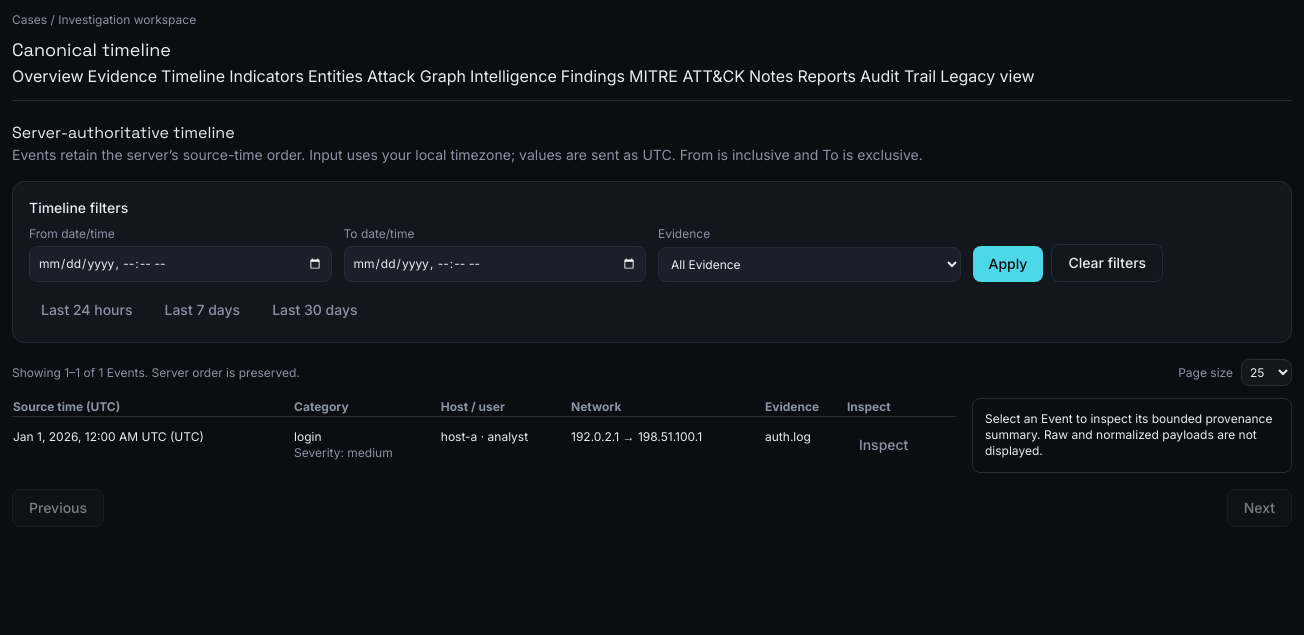
Test case: factual workspace › uses the bounded server Timeline projection and exposes safe provenance
Check: the text "login" is shown, box [294,429,322,444]
What coordinates should you click on to do the following:
click the button with aria-label "Inspect event event-1"
I would click on:
 (884, 445)
Its box is [847,429,920,461].
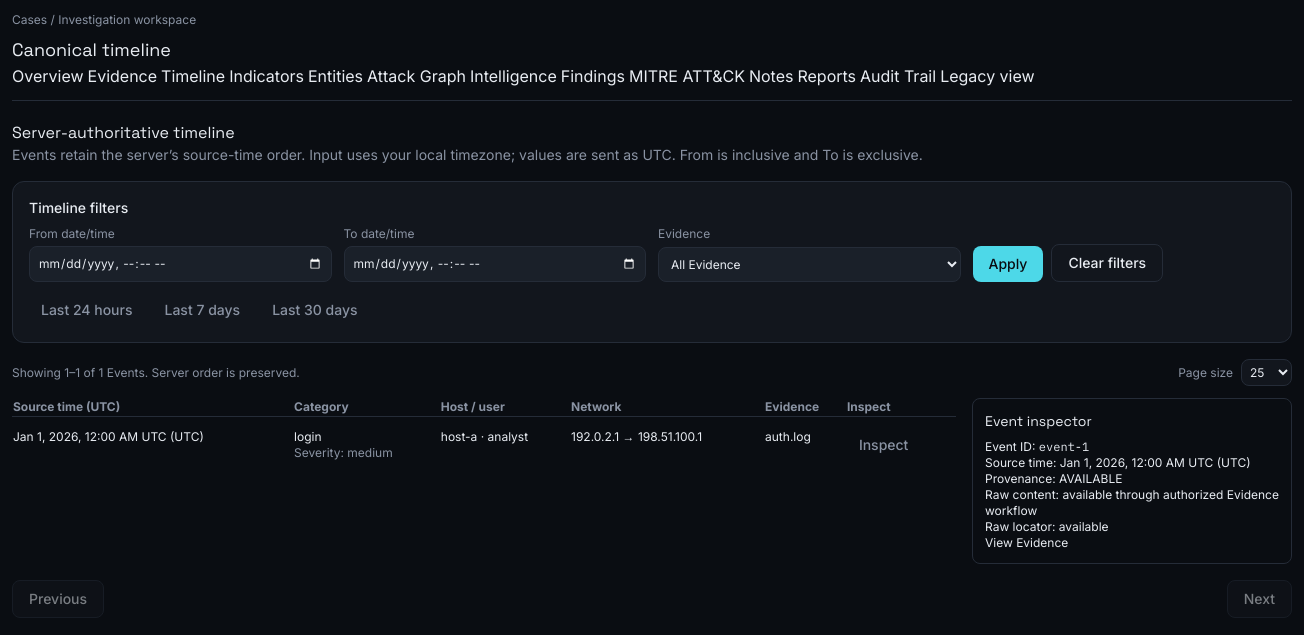
Check: the heading "Event inspector" is shown, box [985,412,1092,430]
Check: the text "normalized" is gone
